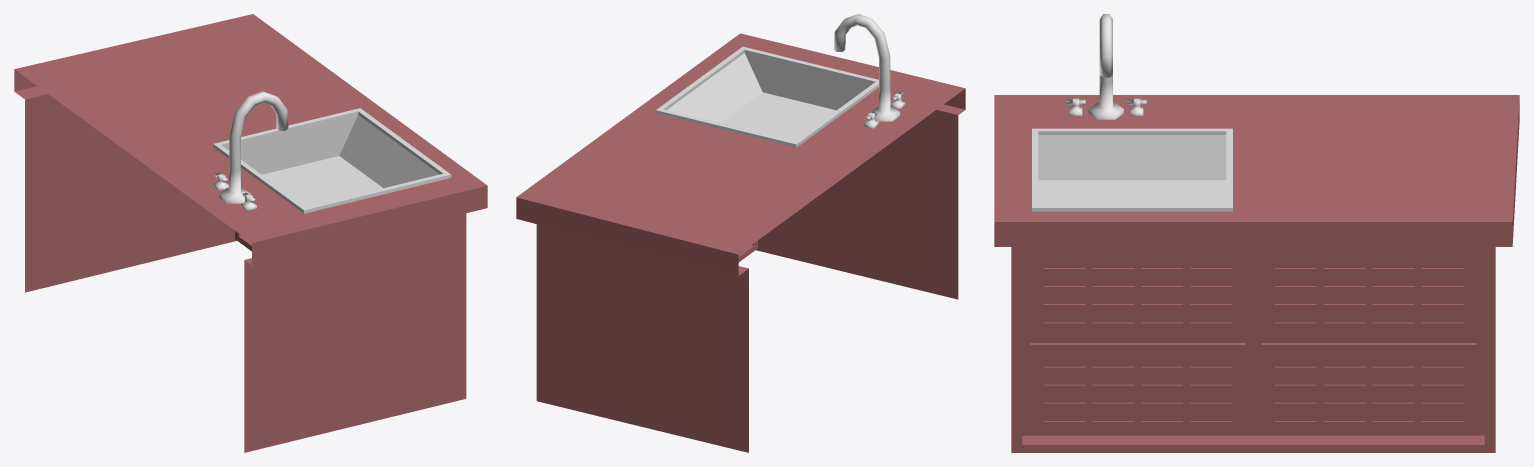
File: tap_water.fbx
3 views of the same model, side by side, from view 1: azimuth 30°, elevation 25°; view 2: azimuth 150°, elevation 25°; view 3: azimuth 270°, elevation 25° (orthographic). The views are drawn at different scales.
Visible parts, largest first — view 1: Cube.145_Cube.002; view 2: Cube.145_Cube.002; view 3: Cube.145_Cube.002.
Boxes of the visible parts, box(x1,y1,x2,y2) form: Cube.145_Cube.002: box(14, 14, 487, 452); Cube.145_Cube.002: box(516, 14, 965, 452); Cube.145_Cube.002: box(994, 14, 1519, 452).
Bounding box in the file's own units: 134 × 170 × 233.
